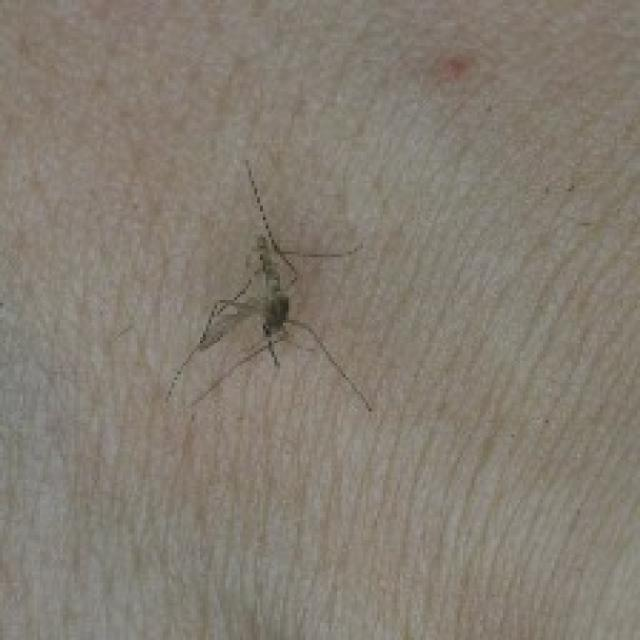culex: (163, 157, 371, 414)
